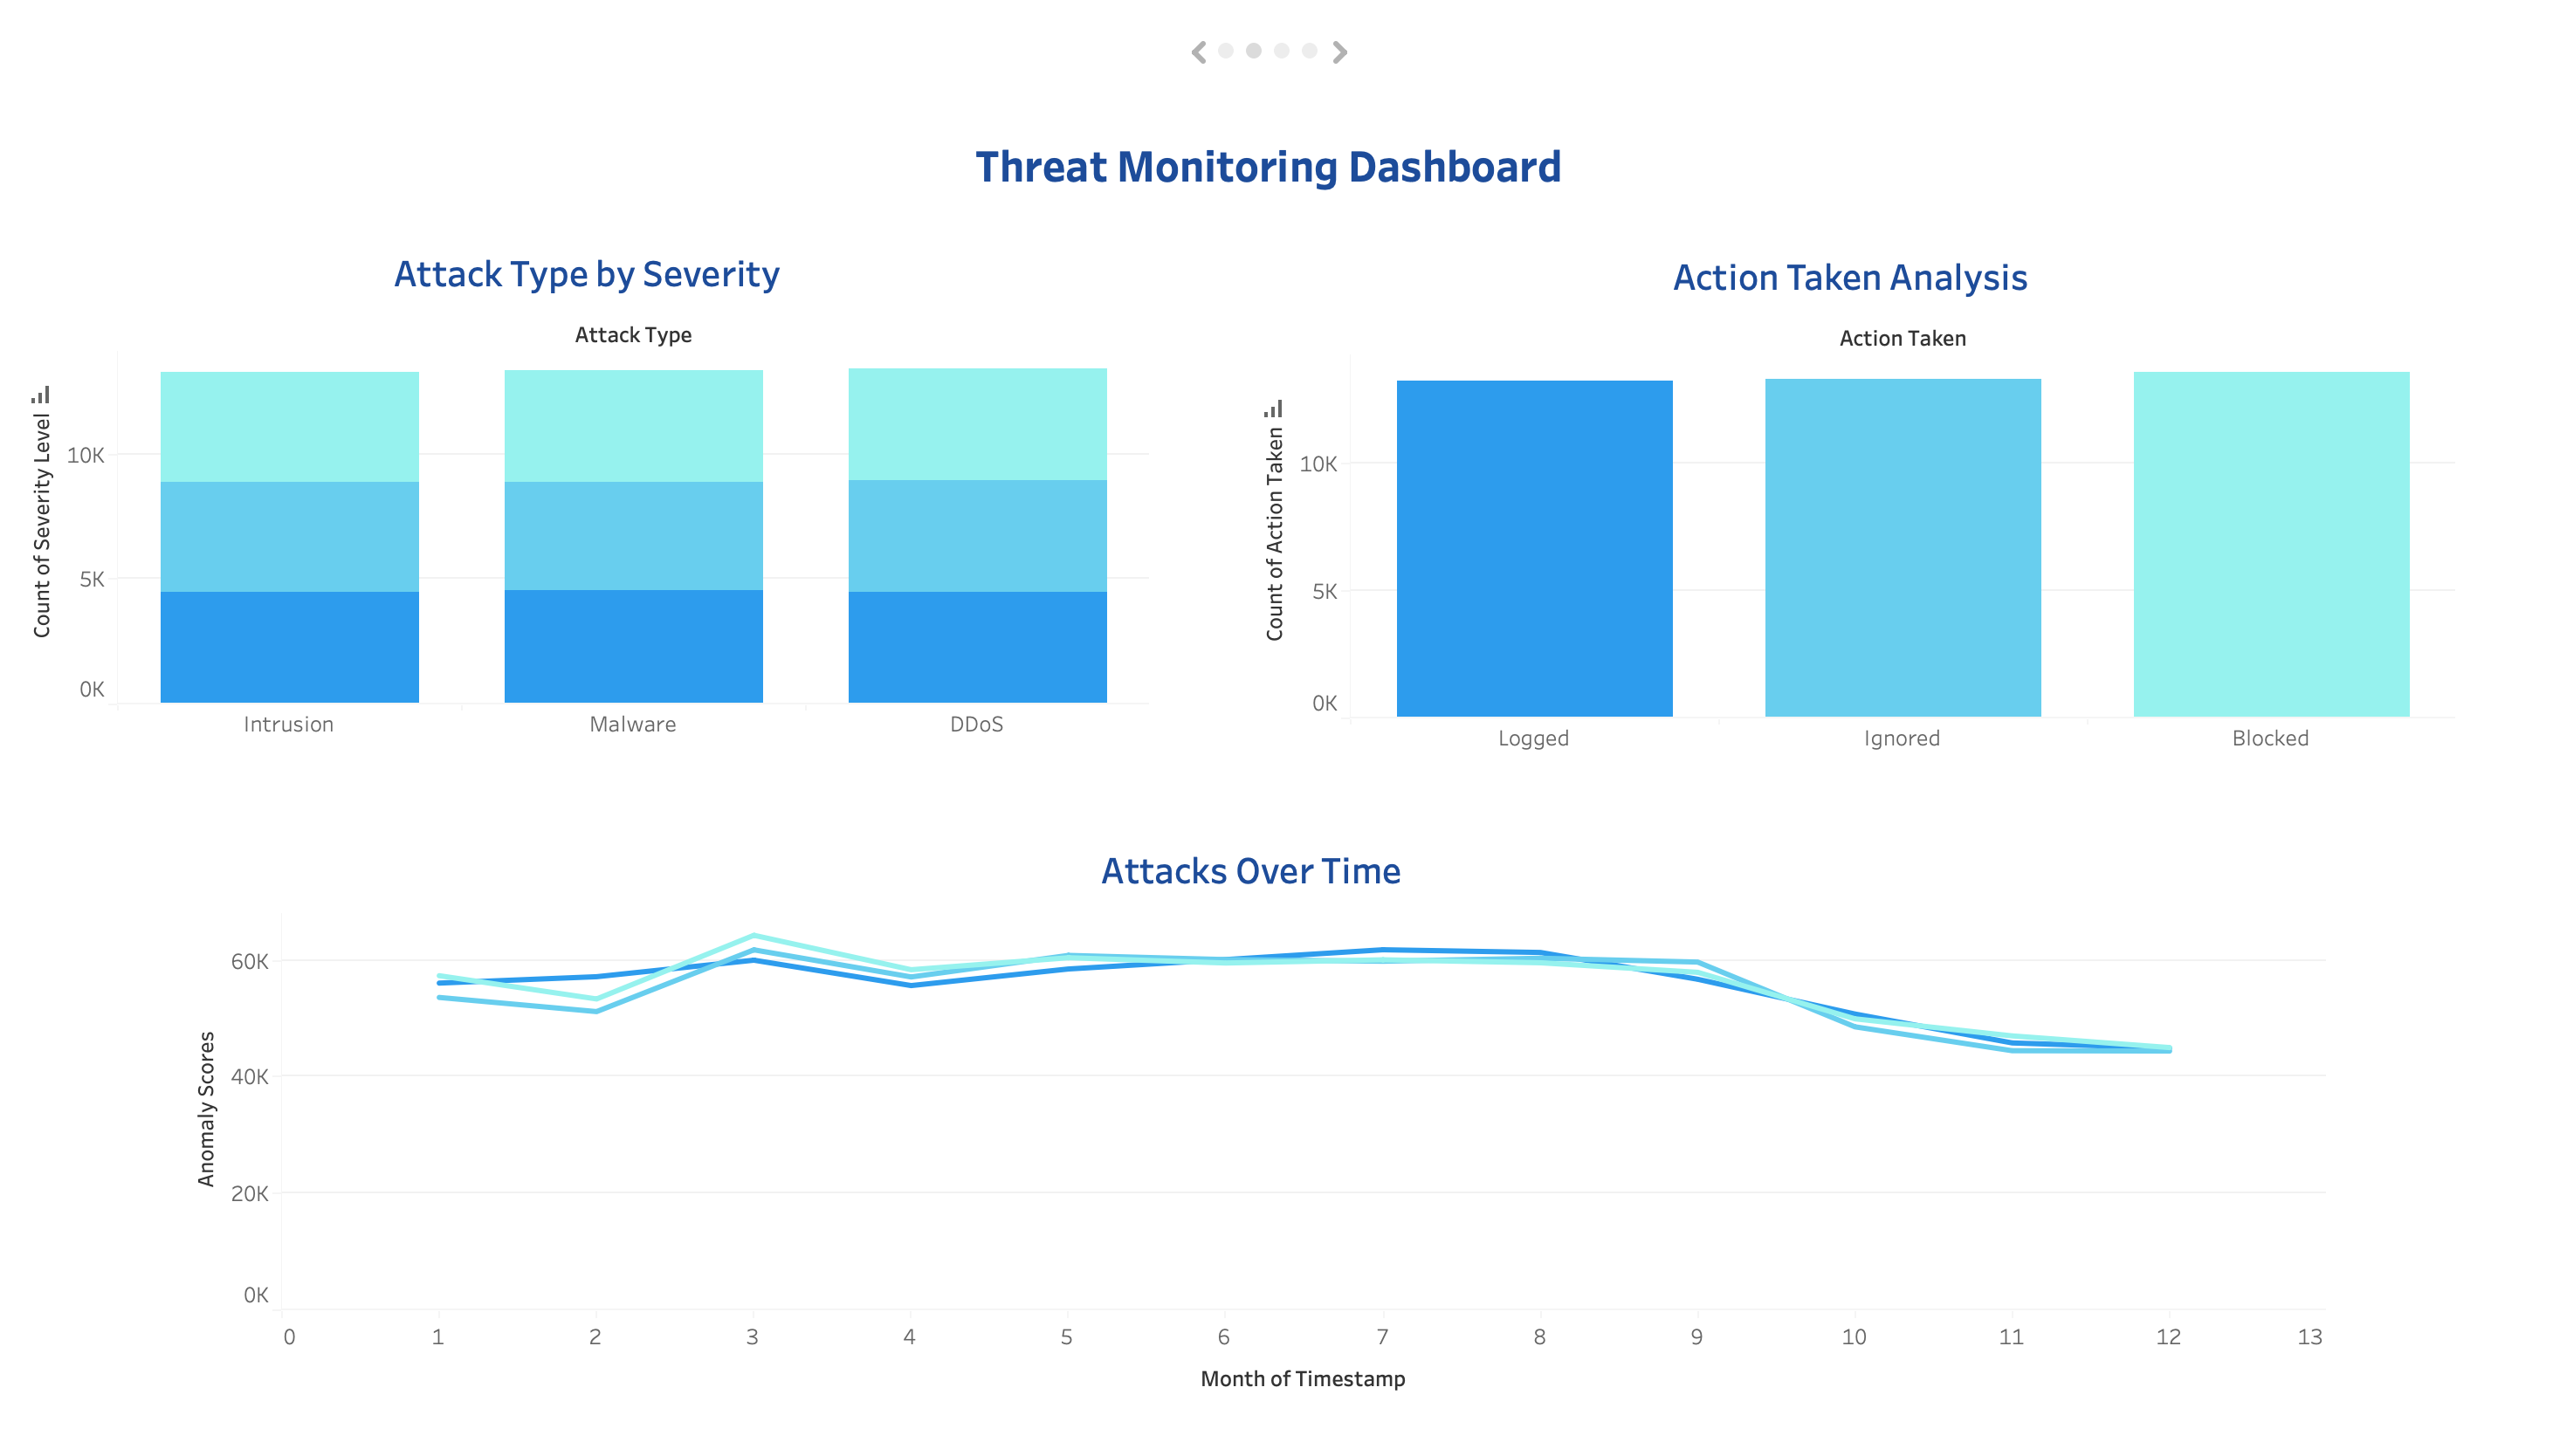

Layout of this report page (visuals, bound fields, positions):
{"tool":"tableau","page":{"name":"Threat Monitoring Dashboard","canvas":[1000,1000],"units":"permille","ordinal":3},"visuals":[{"type":"title","box":[7.7,11.9,984.6,60.9]},{"type":"worksheet","title":"Attack Type by Severity","mark":"Automatic","rows":["Severity Level"],"cols":["Attack Type"],"box":[10.6,93.6,442.2,370]},{"type":"worksheet","title":"Action Taken Analysis","mark":"Automatic","rows":["Action Taken"],"cols":["Action Taken"],"box":[491.3,95.1,475.9,377.4]},{"type":"worksheet","title":"Attacks Over Time","mark":"Automatic","rows":["Anomaly Scores"],"cols":["Timestamp"],"box":[70.3,534.9,845.9,420.5]}]}

Visuals, with their boxes on the dashboard's canvas, which has no fixed pixel size, in thousandths of its width and height (x1, y1, x2, y2). These are canvas units, not pixel positions in the 2553x1456 screenshot, which may show the page scaled, cropped or inside an application window:
title: detection(8, 12, 992, 73)
"Attack Type by Severity" worksheet: detection(11, 94, 453, 464)
"Action Taken Analysis" worksheet: detection(491, 95, 967, 472)
"Attacks Over Time" worksheet: detection(70, 535, 916, 955)
